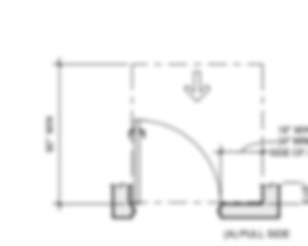door: (132, 117, 222, 208)
